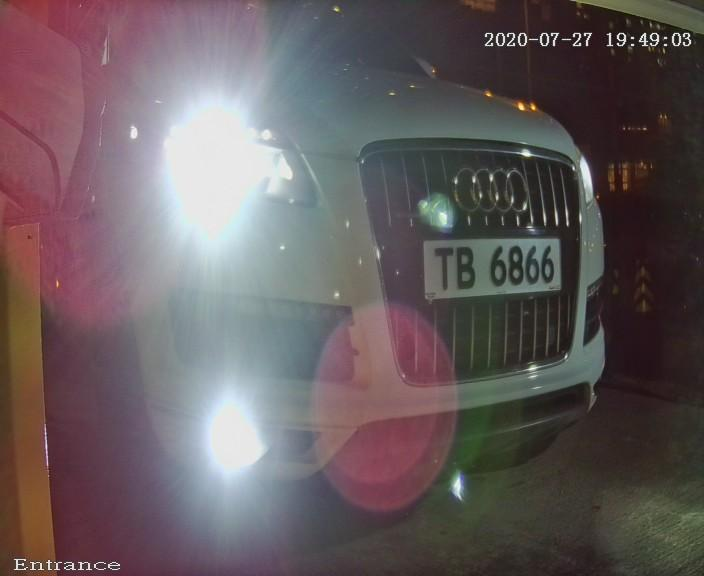privatecar: (109, 2, 636, 500)
